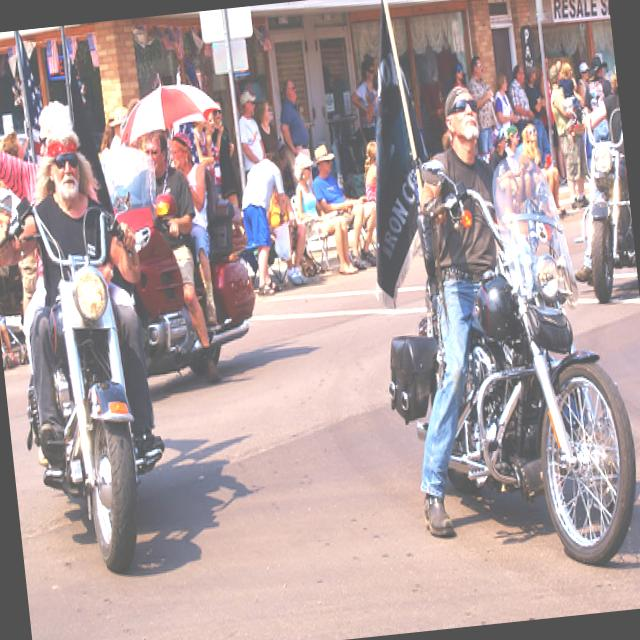Vehicle: (415, 137, 640, 577), (2, 186, 159, 552), (109, 161, 264, 390), (558, 95, 640, 302)
